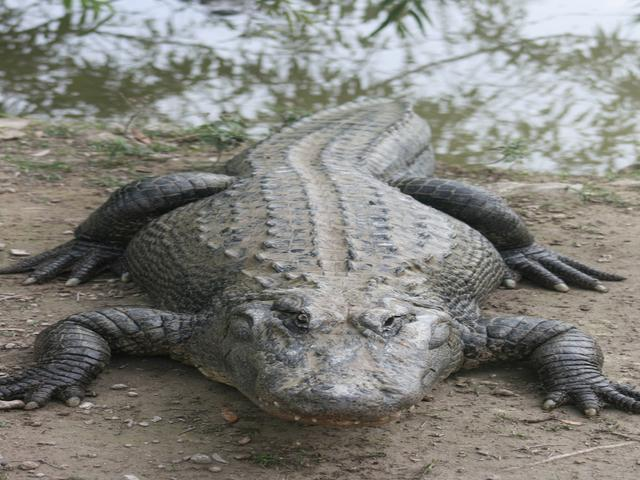crocodile: (11, 77, 568, 433)
